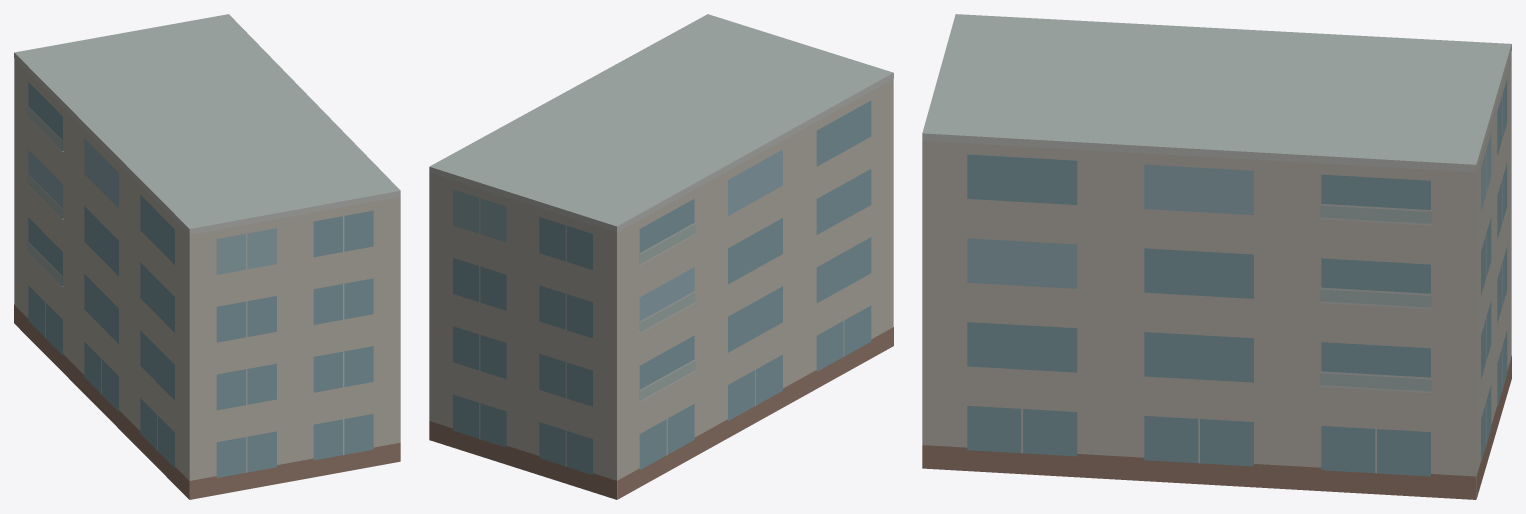
The model's file is survey-upis-32800273.glb.
3 views of the same model, side by side, from view 1: azimuth 30°, elevation 25°; view 2: azimuth 150°, elevation 25°; view 3: azimuth 270°, elevation 25° (orthographic). The views are drawn at different scales.
Visible parts, largest first — view 1: survey-upis-32800273.tmp; view 2: survey-upis-32800273.tmp; view 3: survey-upis-32800273.tmp.
Boxes of the visible parts, x1,y1,x2,y2 form: survey-upis-32800273.tmp: (14, 14, 400, 499); survey-upis-32800273.tmp: (429, 14, 893, 499); survey-upis-32800273.tmp: (922, 14, 1511, 499).
Bounding box in the file's own units: 10.72 × 11.1 × 17.71.
